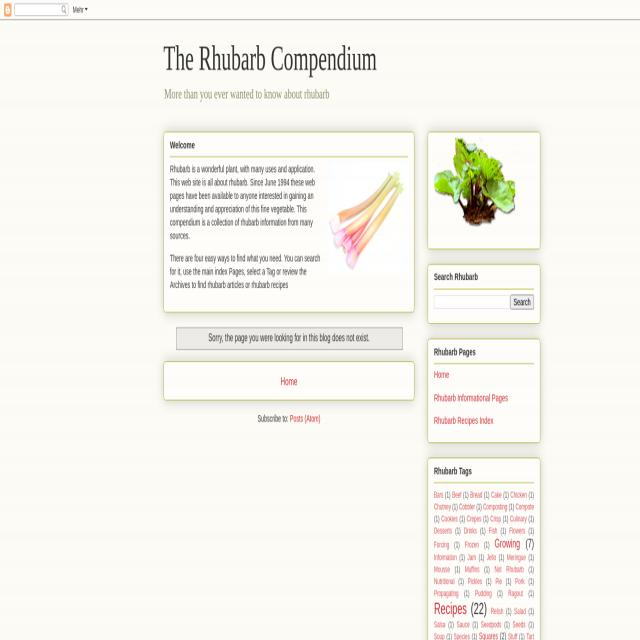button: (327, 162, 408, 274), (434, 138, 515, 235), (510, 295, 534, 310)
field: (434, 296, 510, 309)
